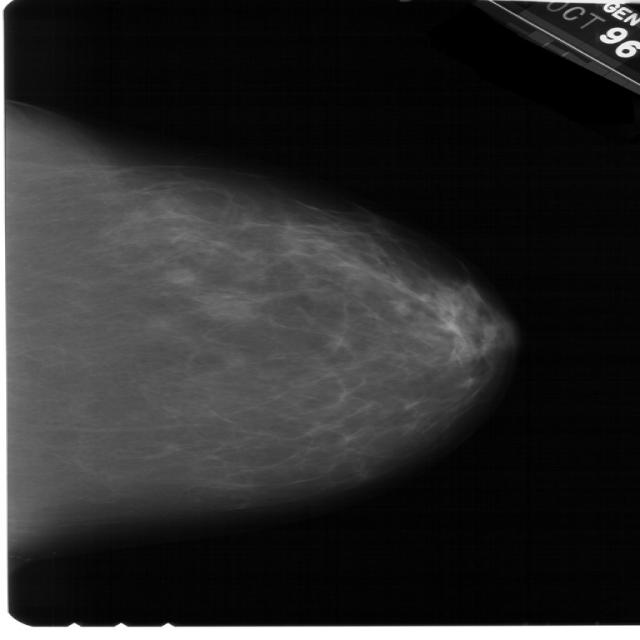tumour: (158, 266, 192, 284)
